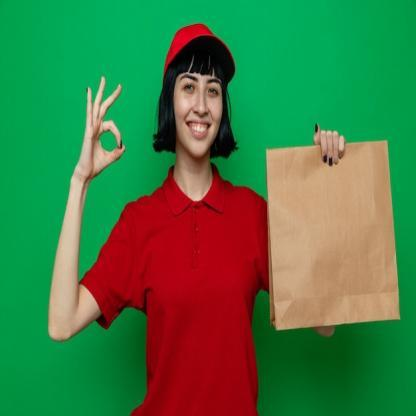ok: (81, 74, 127, 184)
